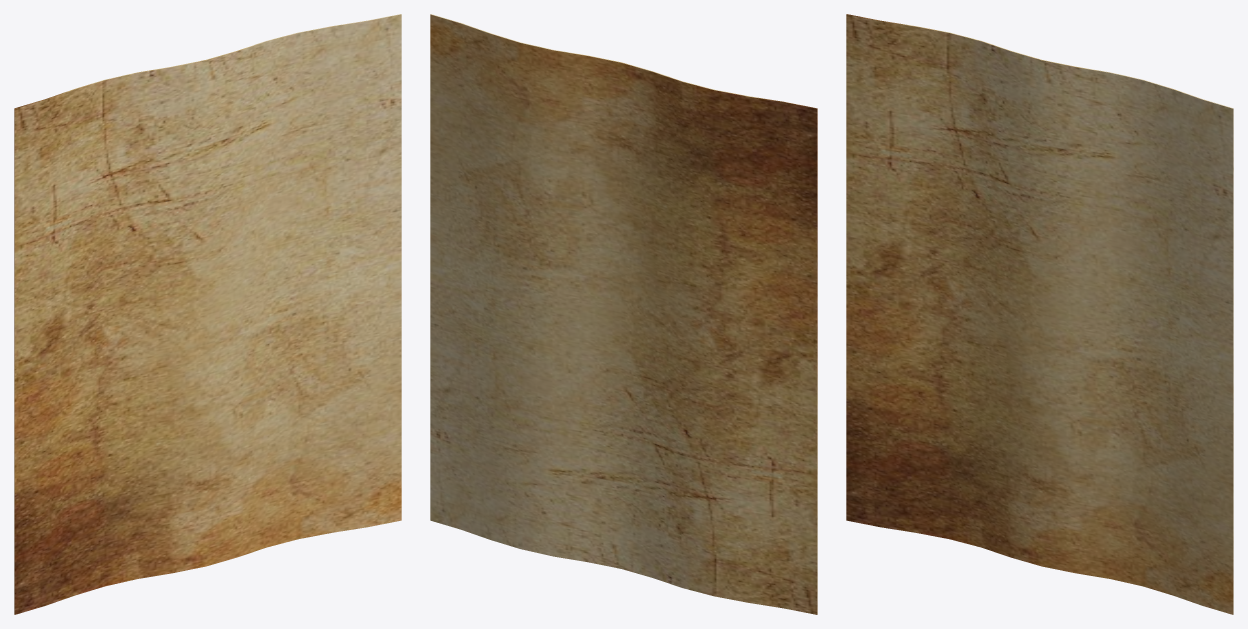
The model's file is paginaPerdida.fbx.
3 views of the same model, side by side, from view 1: azimuth 30°, elevation 25°; view 2: azimuth 150°, elevation 25°; view 3: azimuth 330°, elevation 25° (orthographic).
Visible parts, largest first — view 1: Hoja; view 2: Hoja; view 3: Hoja.
Part boxes in pixels (x1=…): Hoja: x1=14, y1=14, x2=401, y2=614; Hoja: x1=430, y1=14, x2=817, y2=614; Hoja: x1=846, y1=14, x2=1233, y2=614.
Size of the model in its own units: 2 by 2.5 by 0.0649.
